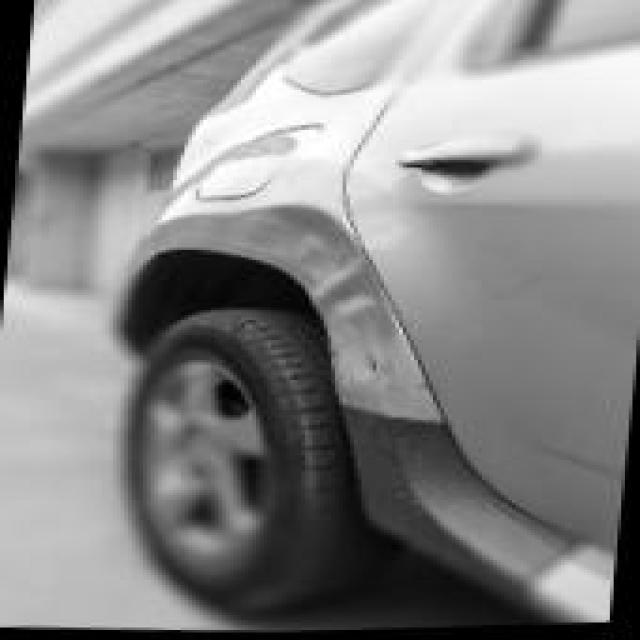Fender: (211, 190, 425, 440)
